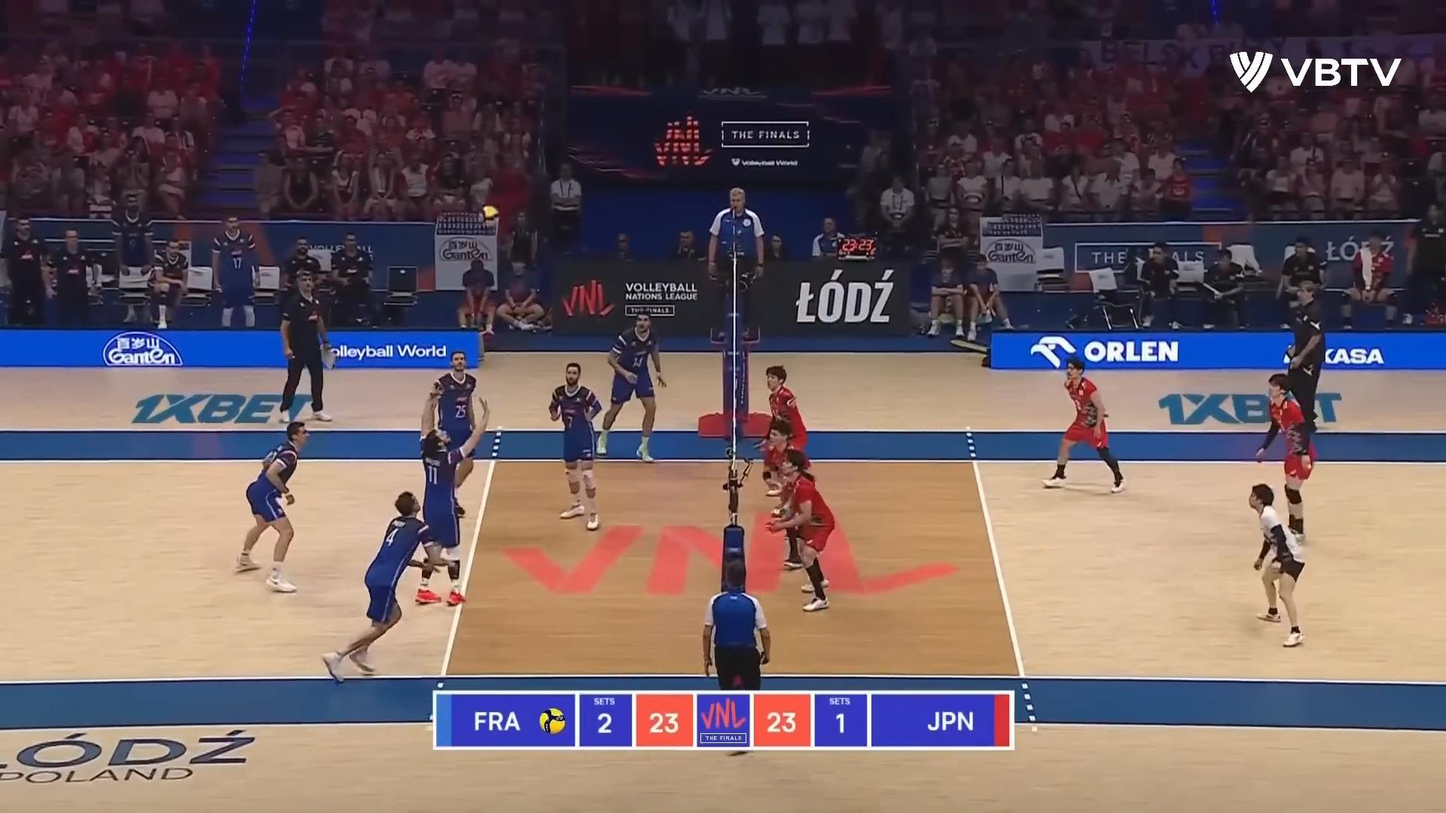ball: (475, 206, 503, 231)
